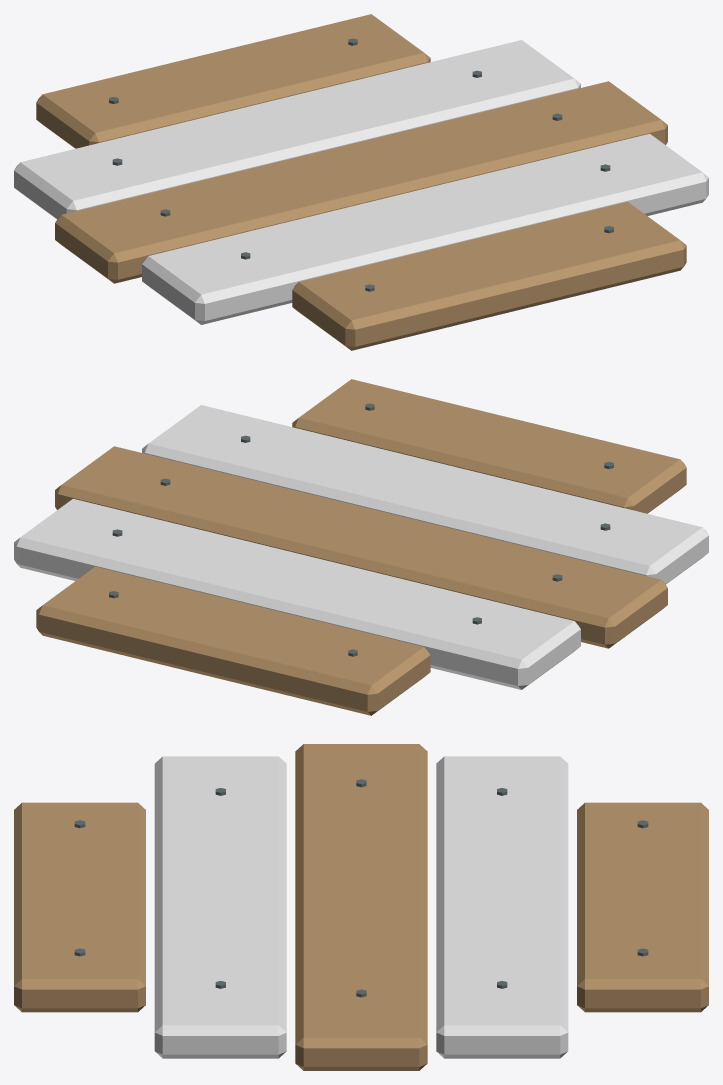
File: Module_Slatted_Tabletop.fbx
The picture shows the model from 3 angles, top to bottom: view 1: azimuth 30°, elevation 25°; view 2: azimuth 150°, elevation 25°; view 3: azimuth 270°, elevation 25°; orthographic projection. The views are drawn at different scales.
Parts seen in each view (by area): view 1: Module_Slatted_Tabletop__LPCXFER; view 2: Module_Slatted_Tabletop__LPCXFER; view 3: Module_Slatted_Tabletop__LPCXFER.
Boxes of the visible parts, x1,y1,x2,y2 form: Module_Slatted_Tabletop__LPCXFER: (14, 14, 708, 350); Module_Slatted_Tabletop__LPCXFER: (14, 379, 708, 715); Module_Slatted_Tabletop__LPCXFER: (14, 744, 708, 1070).
Size of the model in its own units: 106 by 6.15 by 104.
